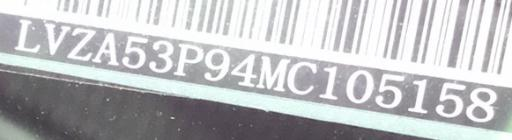letter: (254, 54, 290, 94), (465, 85, 499, 122), (434, 79, 466, 118), (373, 71, 405, 108), (286, 59, 318, 95), (228, 50, 258, 88), (12, 17, 42, 54), (42, 21, 72, 58), (65, 25, 95, 62), (90, 31, 120, 68), (120, 34, 150, 71), (172, 42, 204, 76), (346, 67, 374, 105), (202, 45, 230, 81), (148, 35, 174, 73), (316, 61, 340, 101), (405, 75, 429, 114)
